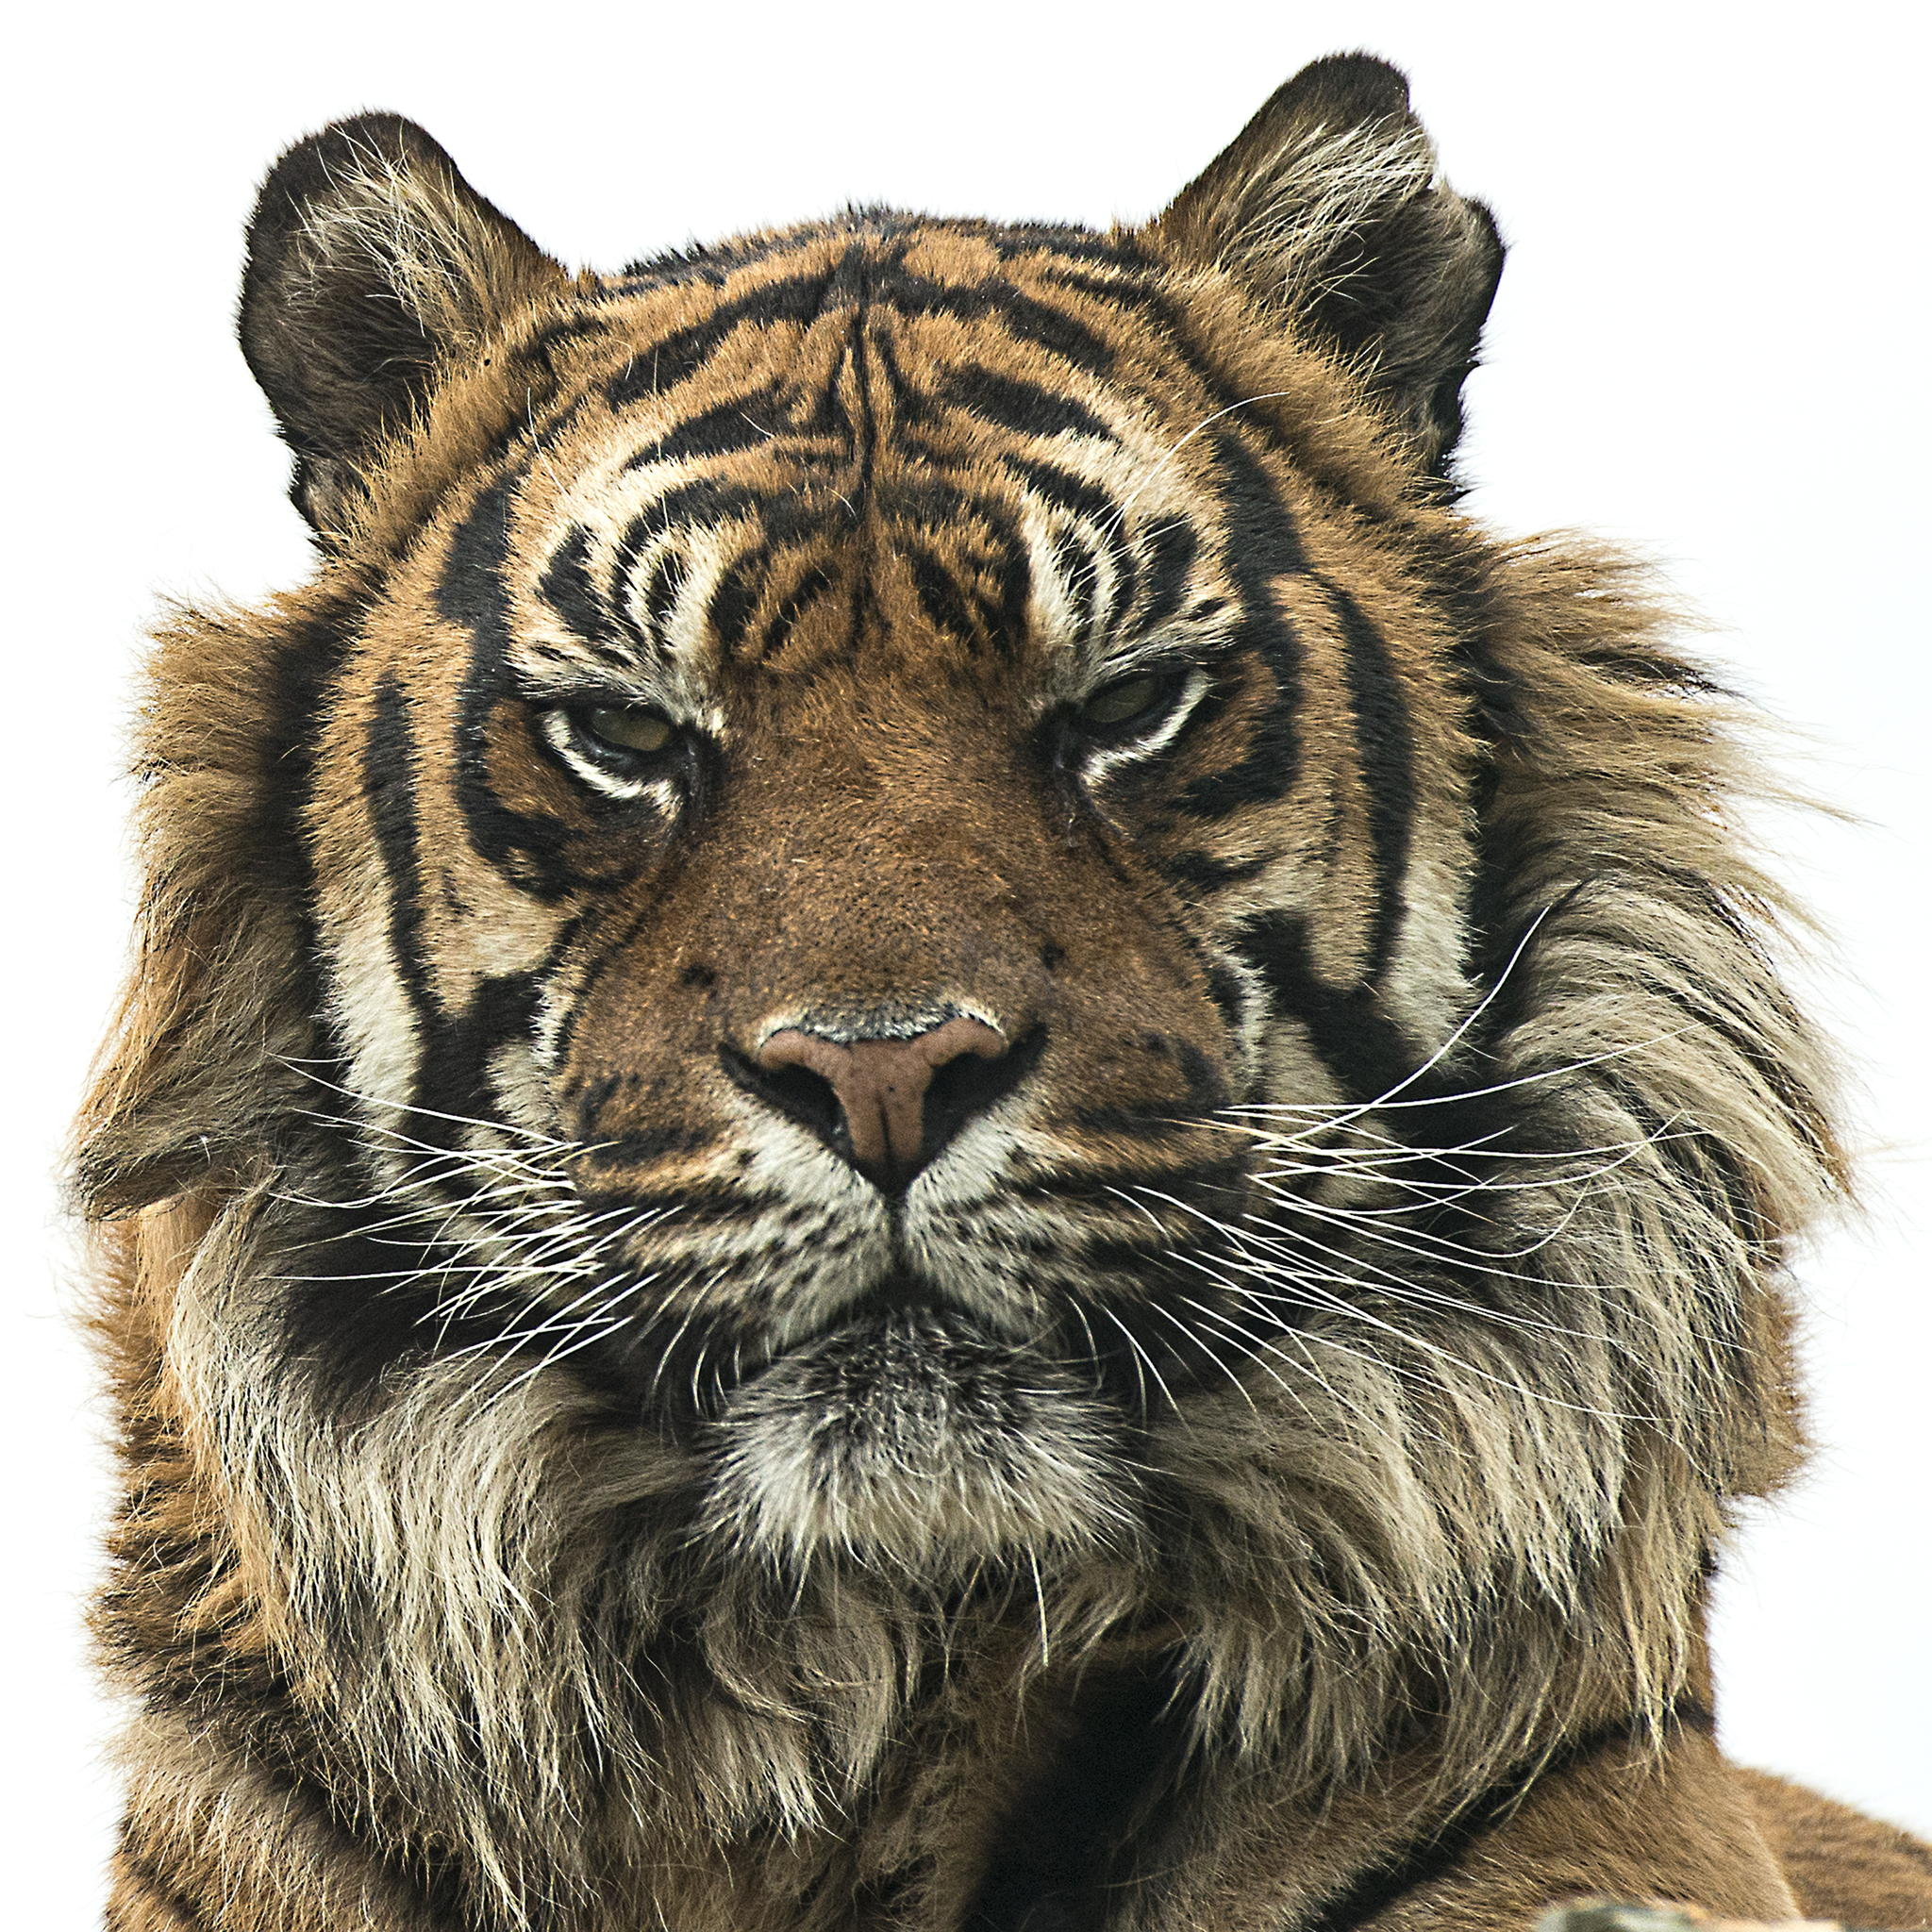tiger: (182, 119, 1739, 1790)
